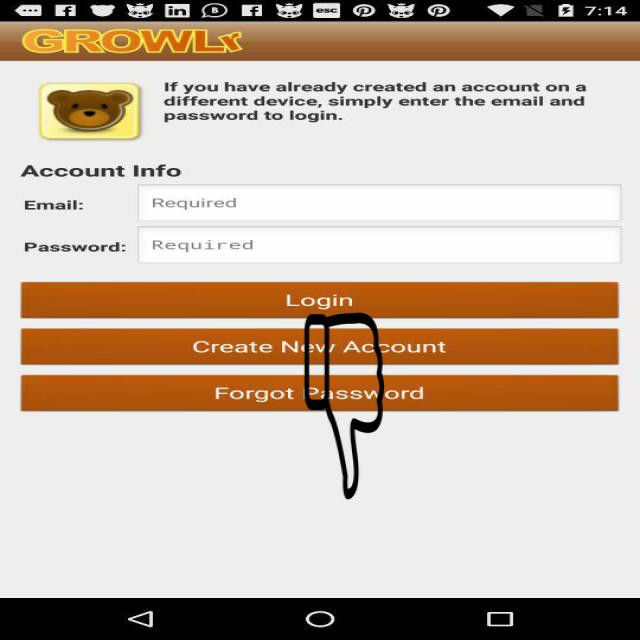obstruction: (304, 313, 386, 499)
